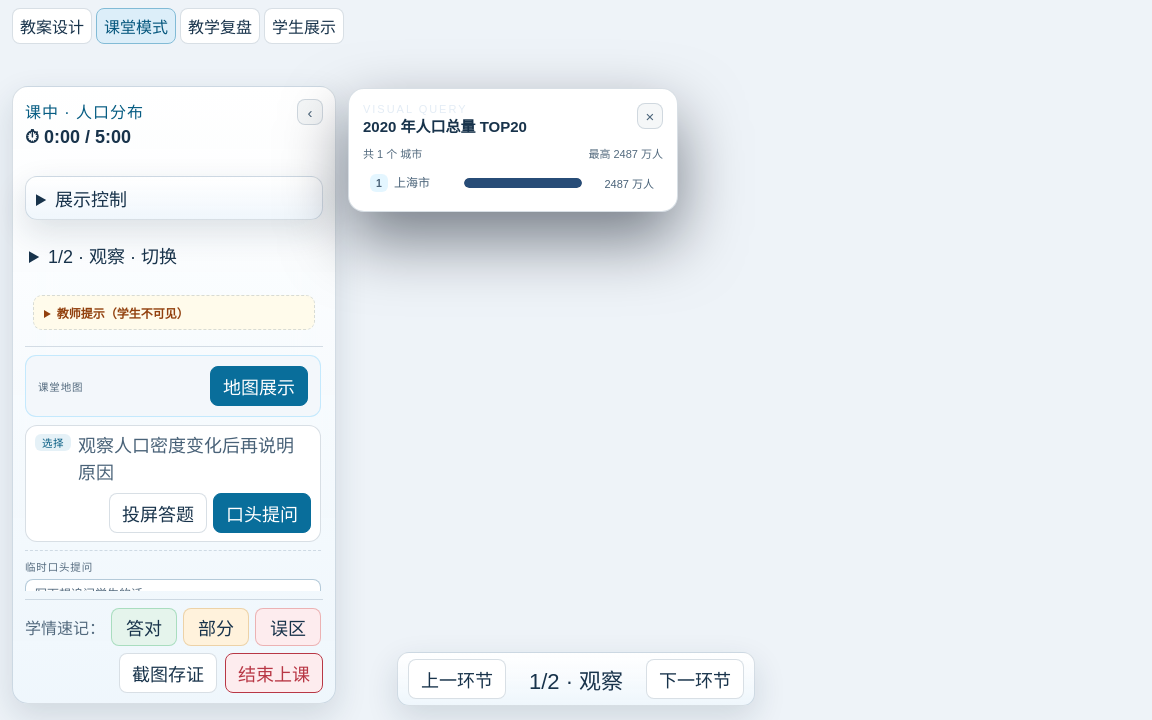
Test: classroom student display integration › keeps a teacher-requested population ranking chart visible to students
This screenshot has width=1152, height=720.
Expected: the element with test id "class-run-panel" is shown, [12,86,336,704]
Click the button with test id "student-display-toggle": click(304, 26) [264,8,344,44]
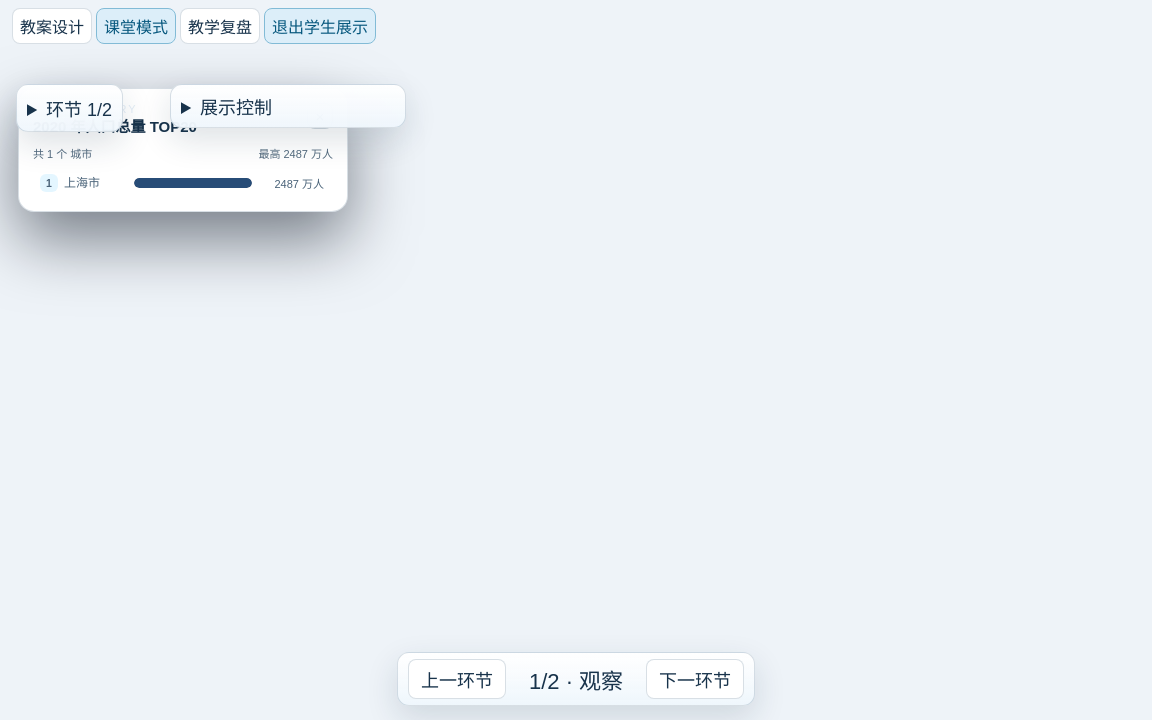
Expected: the heading with test id "visual-query-title" reads "2020 年人口总量 TOP20", [33,118,197,135]
Expected: the element with test id "class-run-panel" is gone
